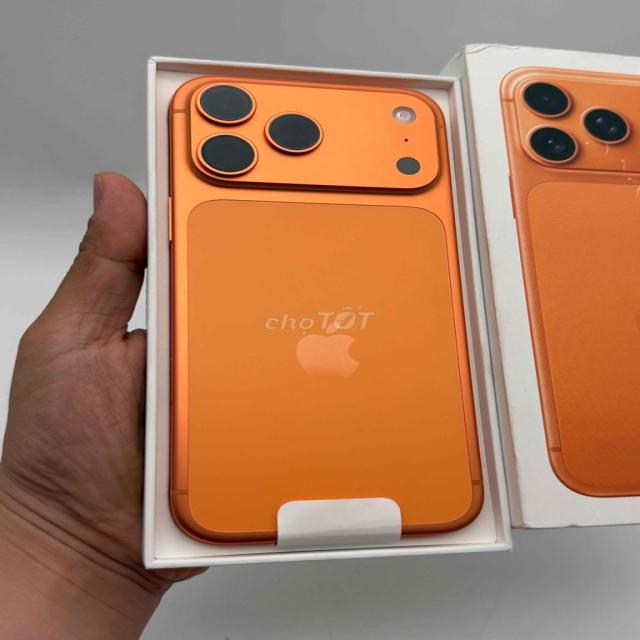gen_17: (158, 71, 510, 543)
